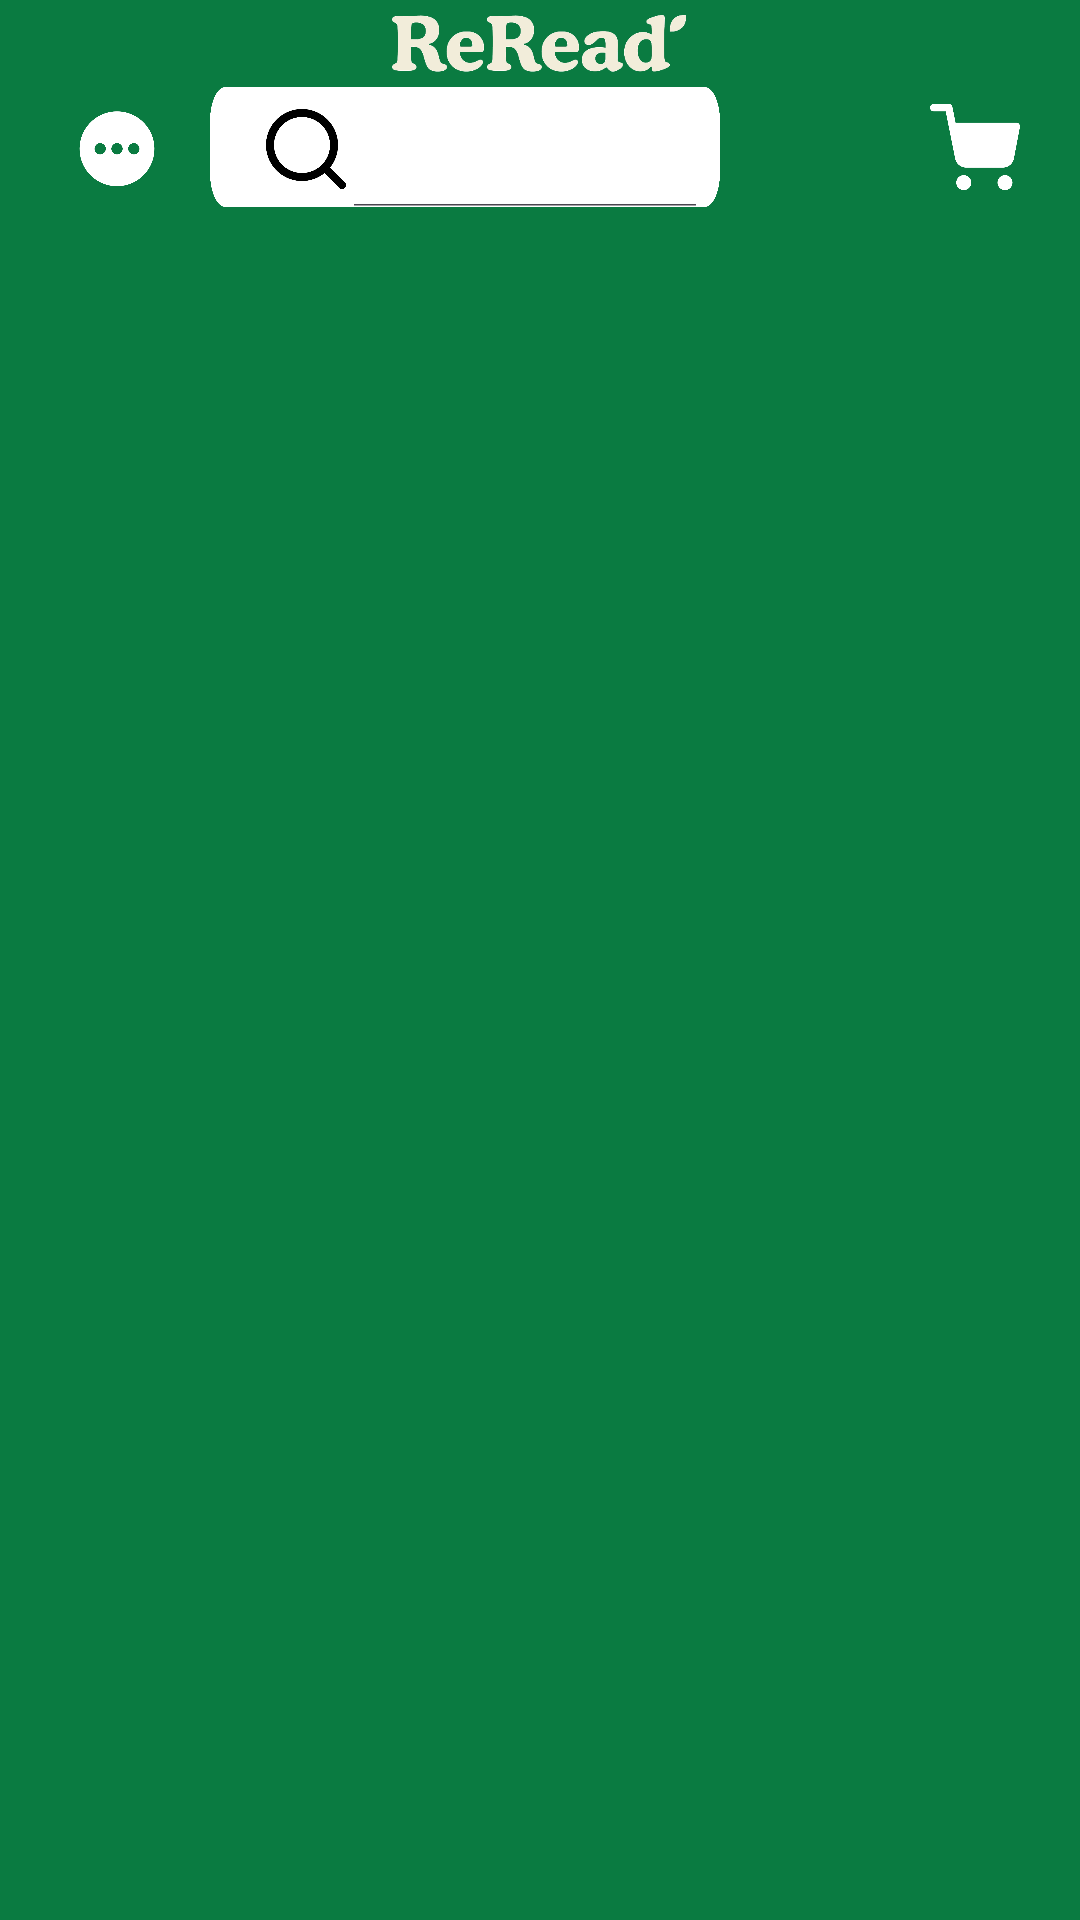

Point at icon controls on the screen. Image size 1080×1920, points as [x,y].
cart: [975,147]
